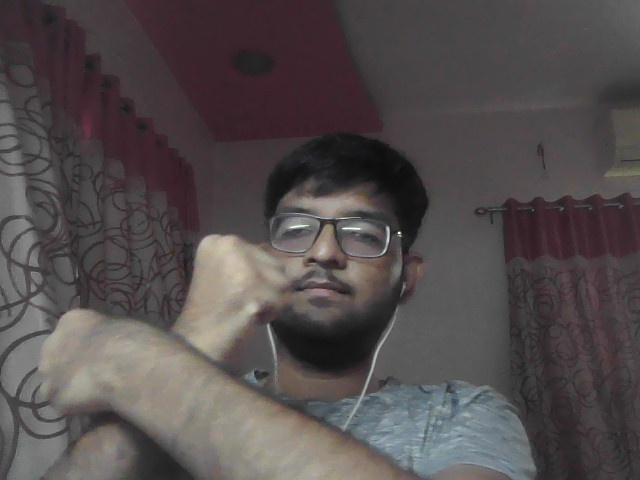પ્રેમ: (13, 214, 318, 477)
